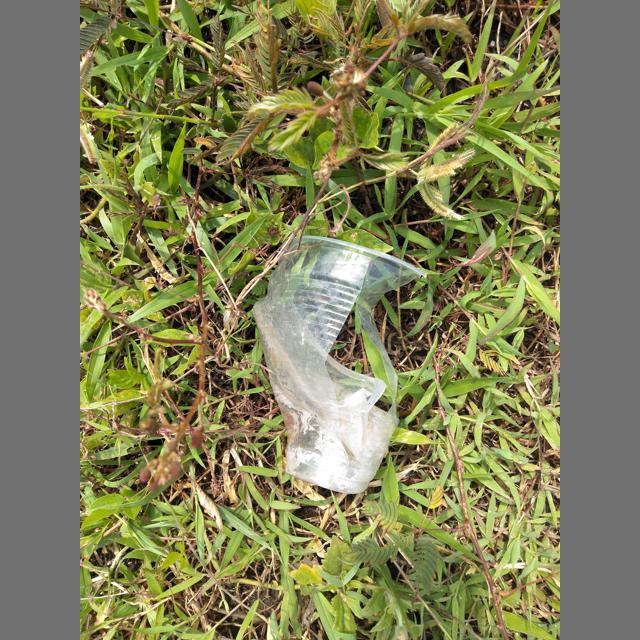litter: (251, 236, 428, 494)
